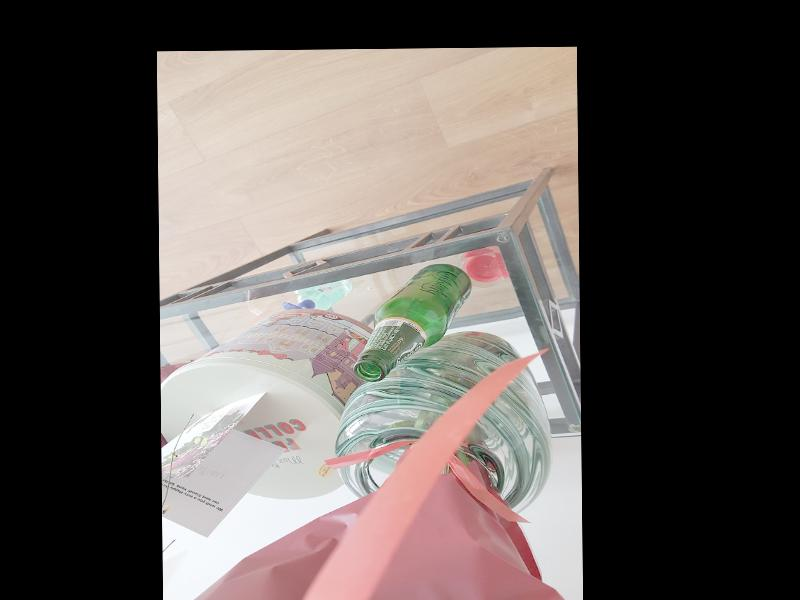Beer: (353, 263, 474, 381)
